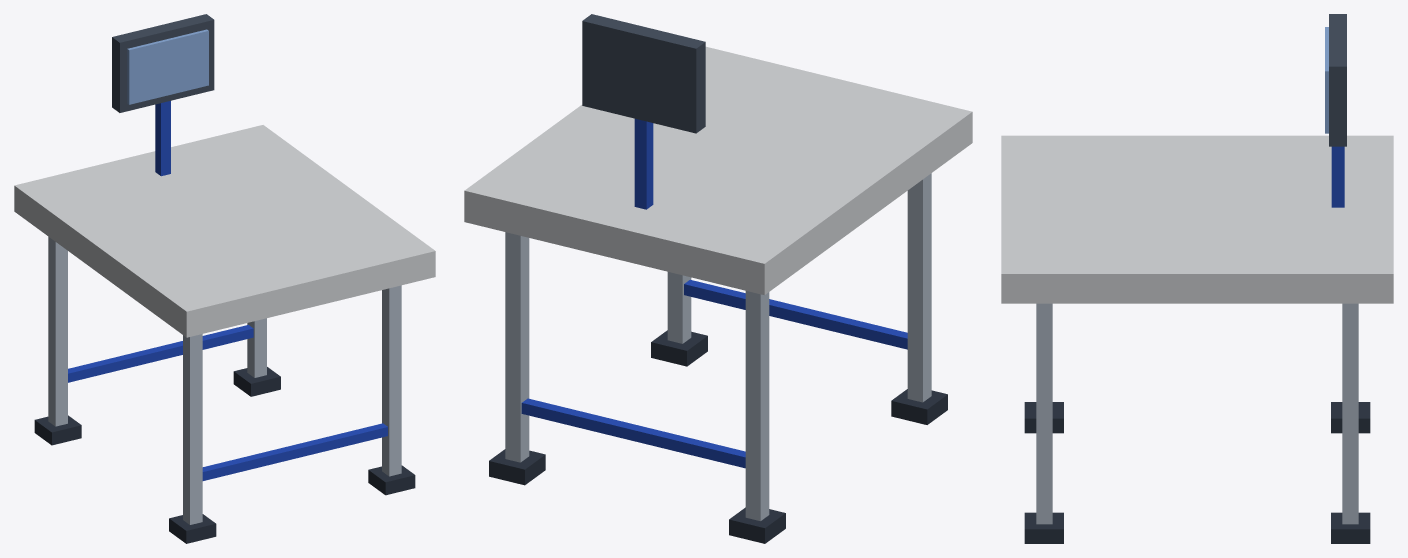
The model's file is SM_MPR_WorkTable.fbx.
The picture shows the model from 3 angles, left to right: view 1: azimuth 30°, elevation 25°; view 2: azimuth 150°, elevation 25°; view 3: azimuth 270°, elevation 25°; orthographic projection. The views are drawn at different scales.
Visible parts, largest first — view 1: SM_MPR_WorkTable; view 2: SM_MPR_WorkTable; view 3: SM_MPR_WorkTable.
Part boxes in pixels (<box>): SM_MPR_WorkTable: <box>14,14,435,543</box>; SM_MPR_WorkTable: <box>464,14,972,543</box>; SM_MPR_WorkTable: <box>1001,14,1393,543</box>.
Bounding box in the file's own units: 100 × 120 × 149.
